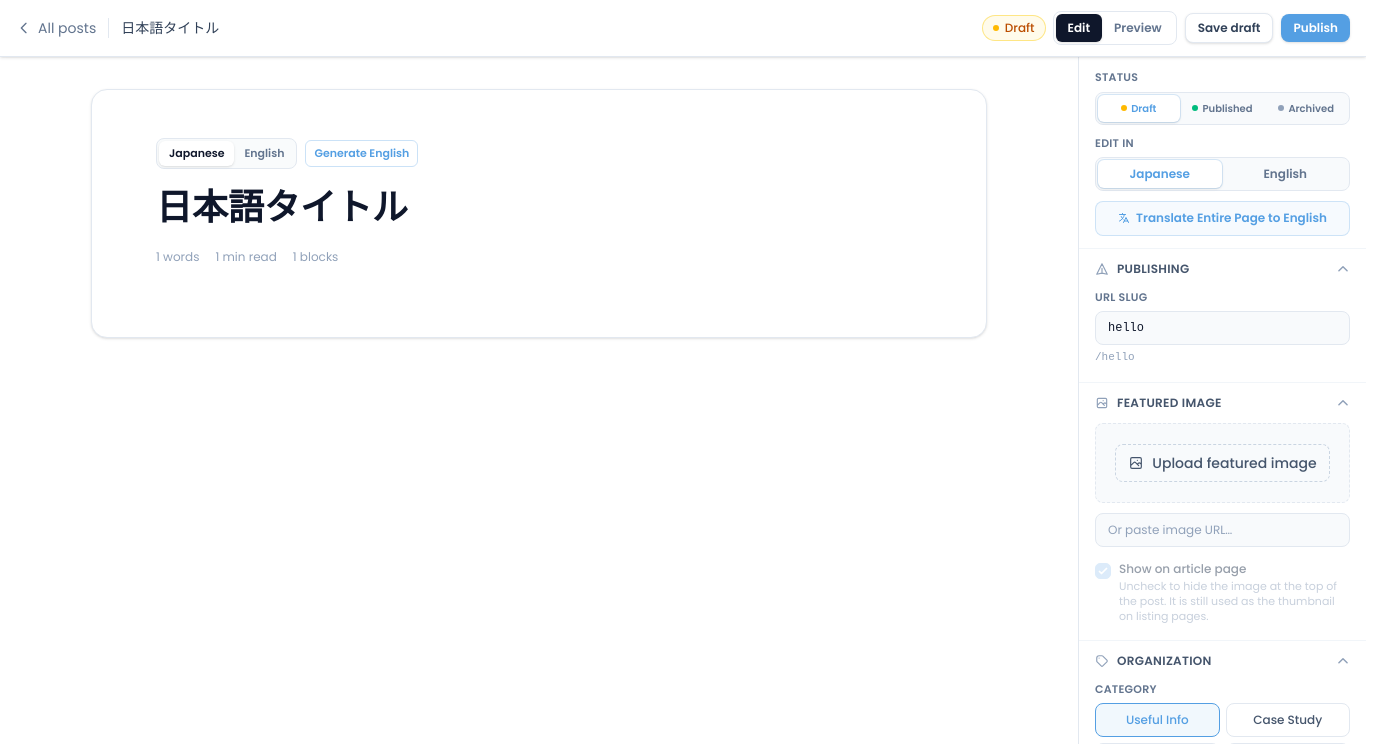
PostEditor › sidebar Edit in English shows the English title
The image size is (1378, 744).
Check: the text box showing "日本語タイトル" is shown, box x1=156 y1=184 x2=922 y2=230
Check: the text "Edit in" is shown, box x1=1095 y1=134 x2=1134 y2=150
Click the button "English" below "Edit in" at (1285, 174), box x1=1224 y1=160 x2=1347 y2=188
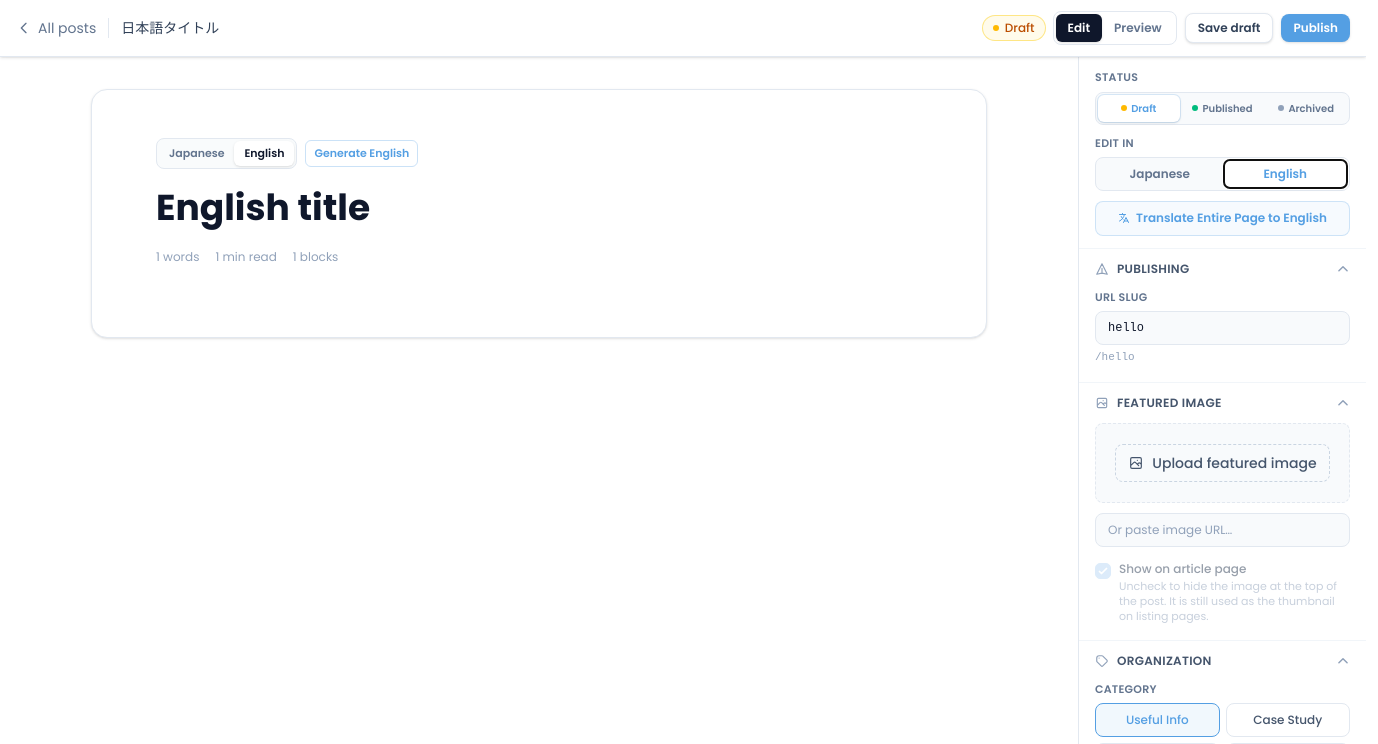
Check: the text box showing "English title" is shown, box x1=156 y1=184 x2=922 y2=230
